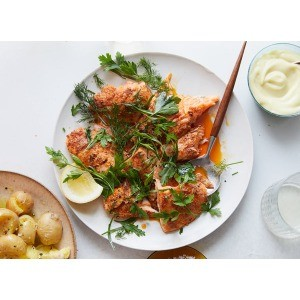salmon_brain food: (81, 85, 214, 219)
